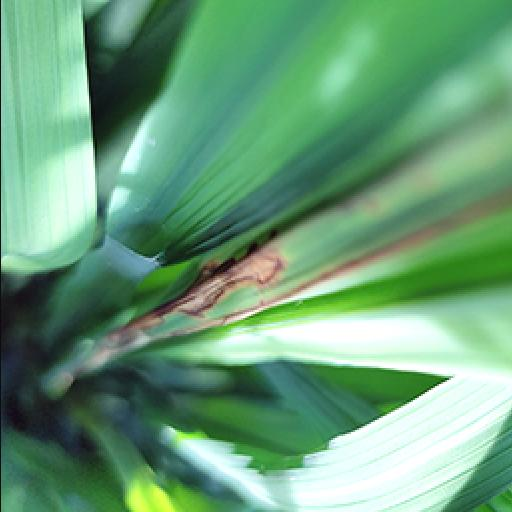Leaf Blast Disease: (290, 178, 510, 328), (104, 242, 292, 360)
